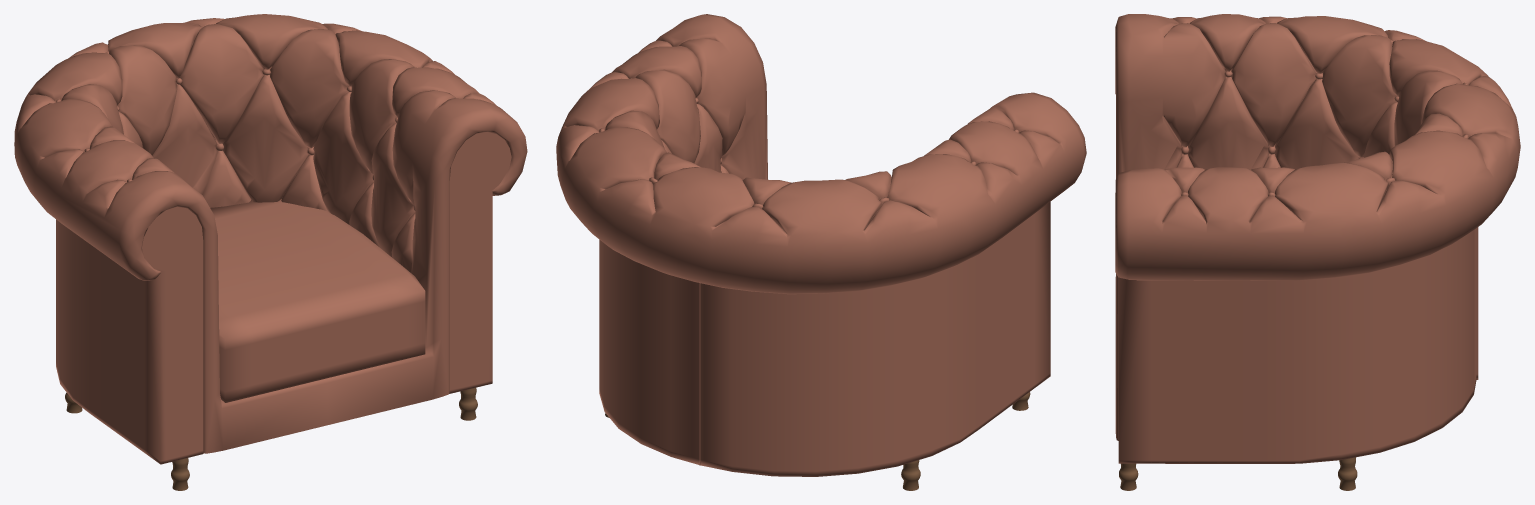
The model's file is armchair_win.glb.
The picture shows the model from 3 angles, left to right: view 1: azimuth 30°, elevation 25°; view 2: azimuth 150°, elevation 25°; view 3: azimuth 270°, elevation 25°; orthographic projection. The views are drawn at different scales.
Parts seen in each view (by area): view 1: Circle, Circle.002_Circle.003, Cube_Cube.001; view 2: Circle, Circle.002_Circle.003; view 3: Circle, Circle.002_Circle.003, Circle.004_Circle.005, Circle.003_Circle.004.
Boxes of the visible parts, x1,y1,x2,y2 form: Circle: [14, 14, 527, 453]; Circle.002_Circle.003: [56, 132, 511, 464]; Cube_Cube.001: [210, 192, 425, 402]; Circle: [556, 14, 1086, 294]; Circle.002_Circle.003: [599, 202, 1050, 476]; Circle: [1115, 14, 1520, 440]; Circle.002_Circle.003: [1118, 105, 1478, 463]; Circle.004_Circle.005: [1338, 457, 1357, 490]; Circle.003_Circle.004: [1119, 463, 1138, 490].
Bounding box in the file's own units: 1.12 × 0.804 × 0.934.
